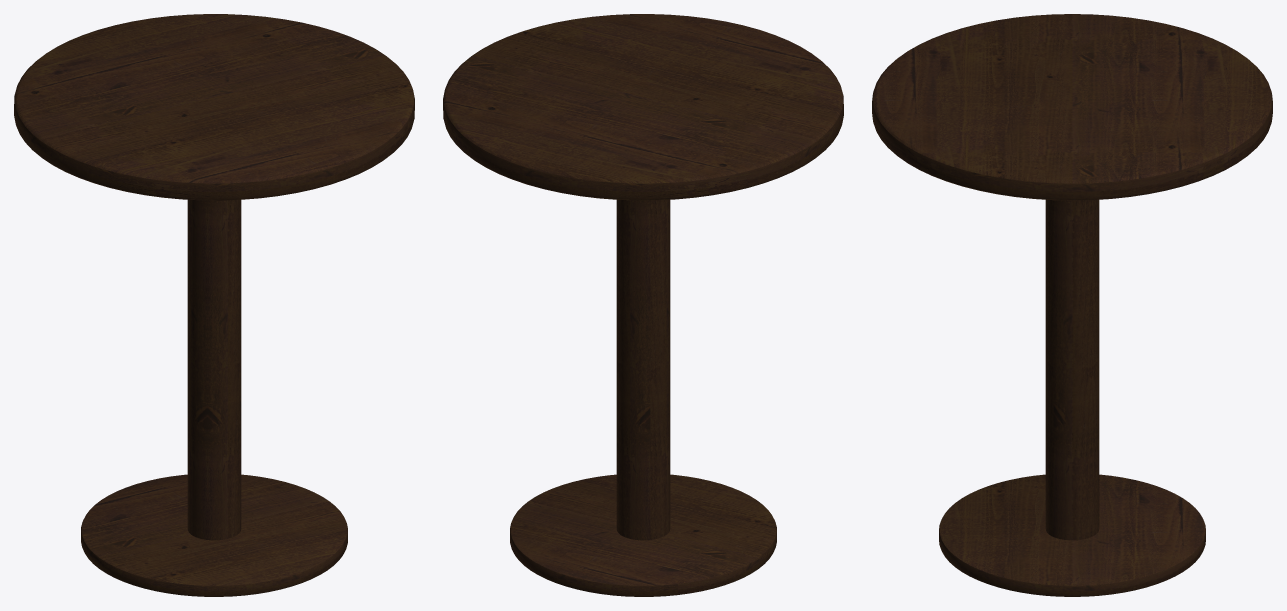
The model's file is table_01B.glb.
The picture shows the model from 3 angles, left to right: view 1: azimuth 30°, elevation 25°; view 2: azimuth 150°, elevation 25°; view 3: azimuth 270°, elevation 25°; orthographic projection.
Visible parts, largest first — view 1: 円柱, 円柱.002, 円柱.001; view 2: 円柱, 円柱.002, 円柱.001; view 3: 円柱, 円柱.002, 円柱.001.
Part boxes in pixels (<box>): 円柱: <box>14,14,414,200</box>; 円柱.002: <box>81,474,347,596</box>; 円柱.001: <box>187,199,241,540</box>; 円柱: <box>443,14,843,200</box>; 円柱.002: <box>510,474,776,596</box>; 円柱.001: <box>616,199,670,540</box>; 円柱: <box>872,14,1272,200</box>; 円柱.002: <box>939,474,1205,596</box>; 円柱.001: <box>1045,199,1099,540</box>.
Size of the model in its own units: 0.45 by 0.55 by 0.45.
1 material, 1 textured.
